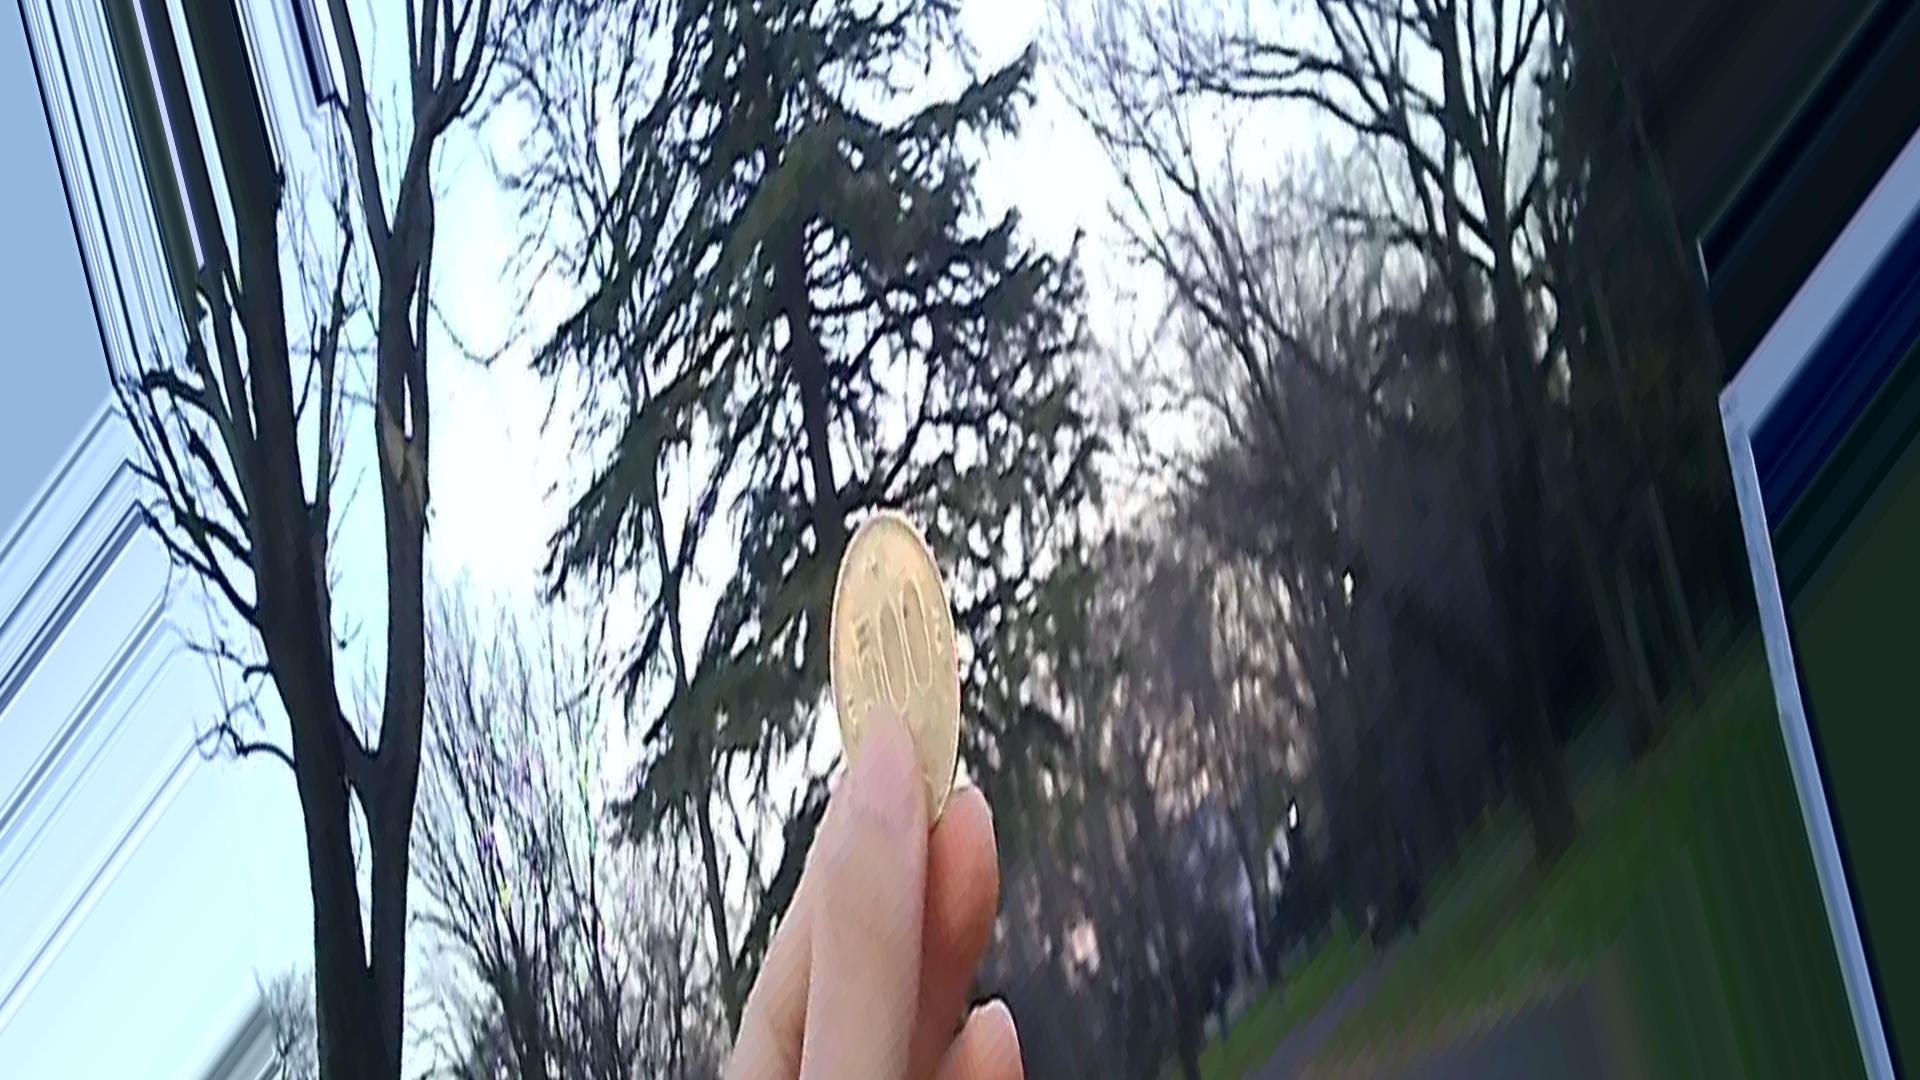500 Yen: (824, 504, 967, 829)
